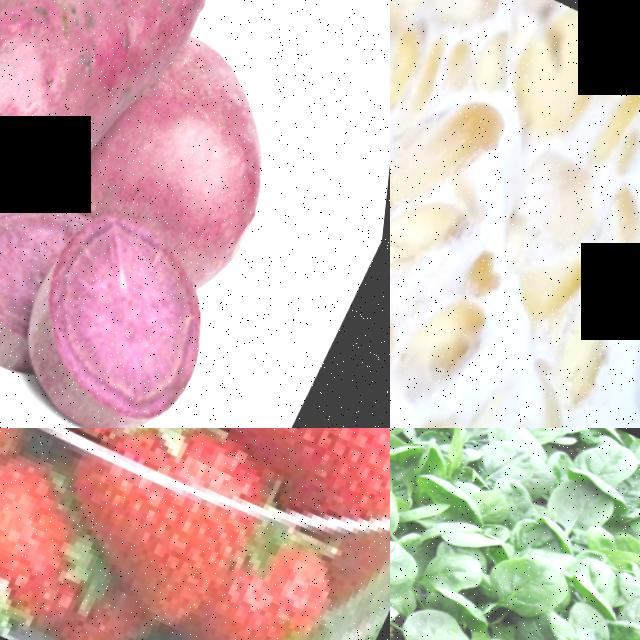spinach: (481, 529, 581, 623), (543, 463, 625, 529), (471, 428, 546, 485), (567, 428, 640, 485), (618, 573, 640, 640)
strawberry: (57, 428, 288, 623), (181, 428, 390, 516)
sweet potato: (78, 0, 330, 269), (0, 185, 261, 428), (0, 0, 100, 260)
tempeh: (390, 0, 640, 428)
